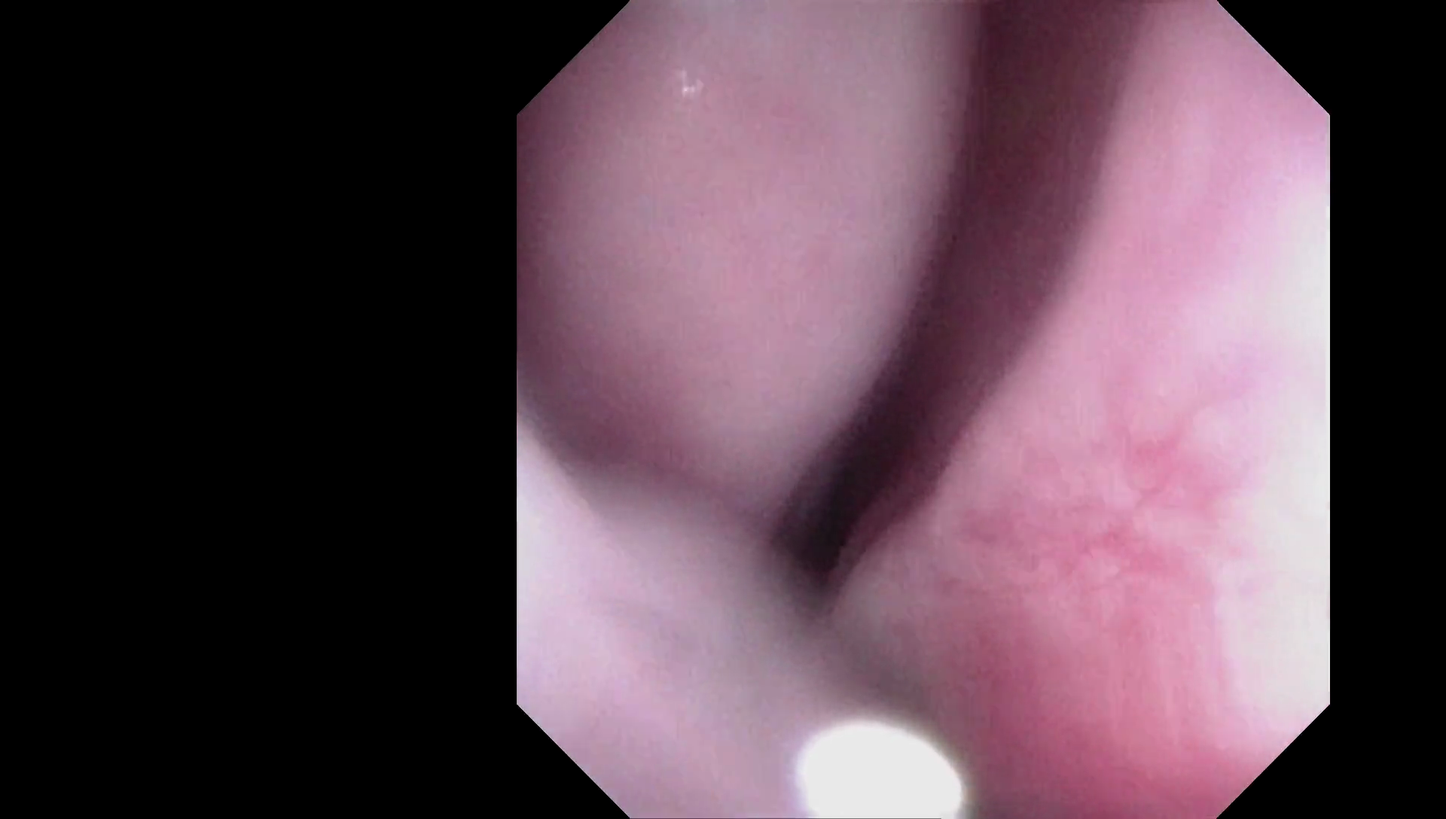close_wall: (1013, 130, 1326, 698)
next: (724, 352, 983, 628)
